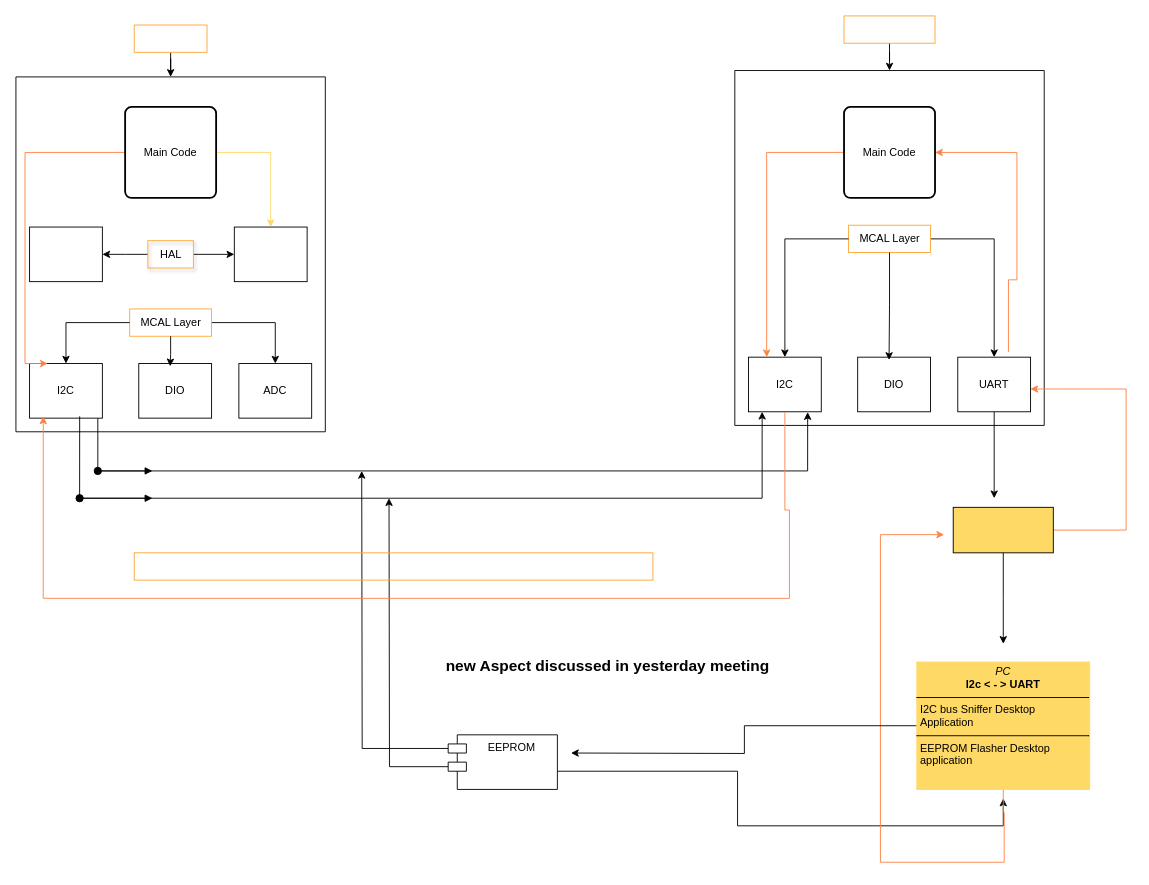
The diagram is 1149 pixels wide and 885 high, and some of its shapes have lost their labels. The centre of each missing label's shape, as x and y in pixels:
"BRIDGE ECU" belongs at pixel 889 29.
"Buttons" belongs at pixel 65 254.
"I2C BUS Connect Between the Main ECU and the Bridge ECU and the EEPROM" belongs at pixel 393 566.
"MAIN ECU" belongs at pixel 170 38.
"Sensors" belongs at pixel 270 254.
"USB-TTL" belongs at pixel 1002 529.
